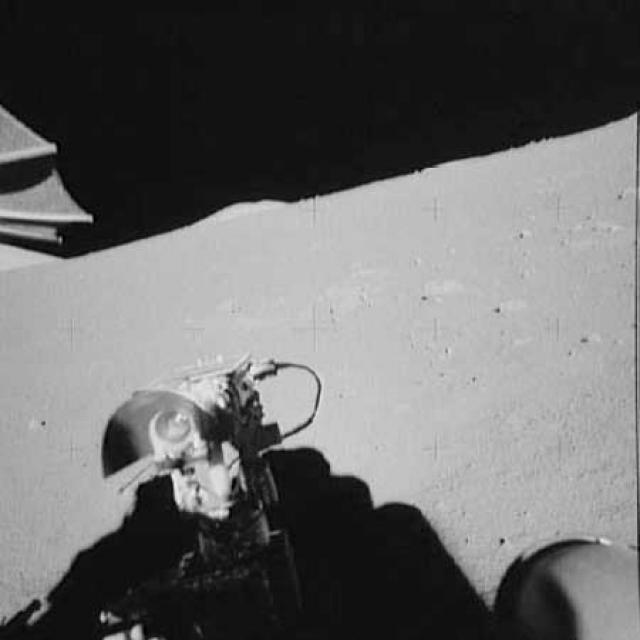artifact: (94, 344, 364, 639), (489, 519, 639, 639), (0, 100, 98, 264)
rock: (566, 214, 630, 239), (414, 274, 470, 298), (488, 292, 526, 316), (610, 178, 639, 202), (515, 224, 535, 245)
